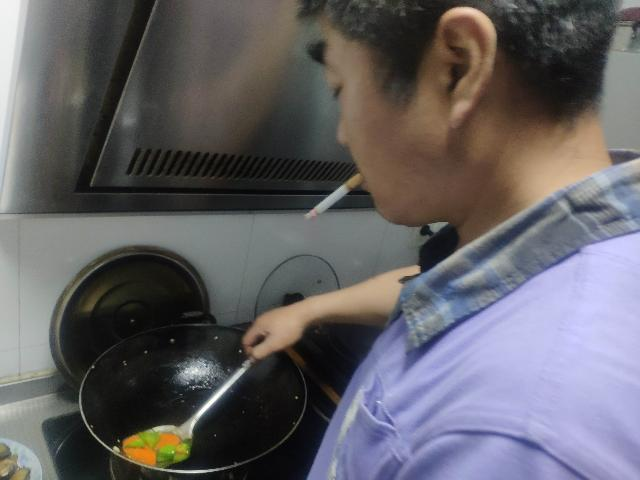Smoking: (305, 172, 365, 222)
